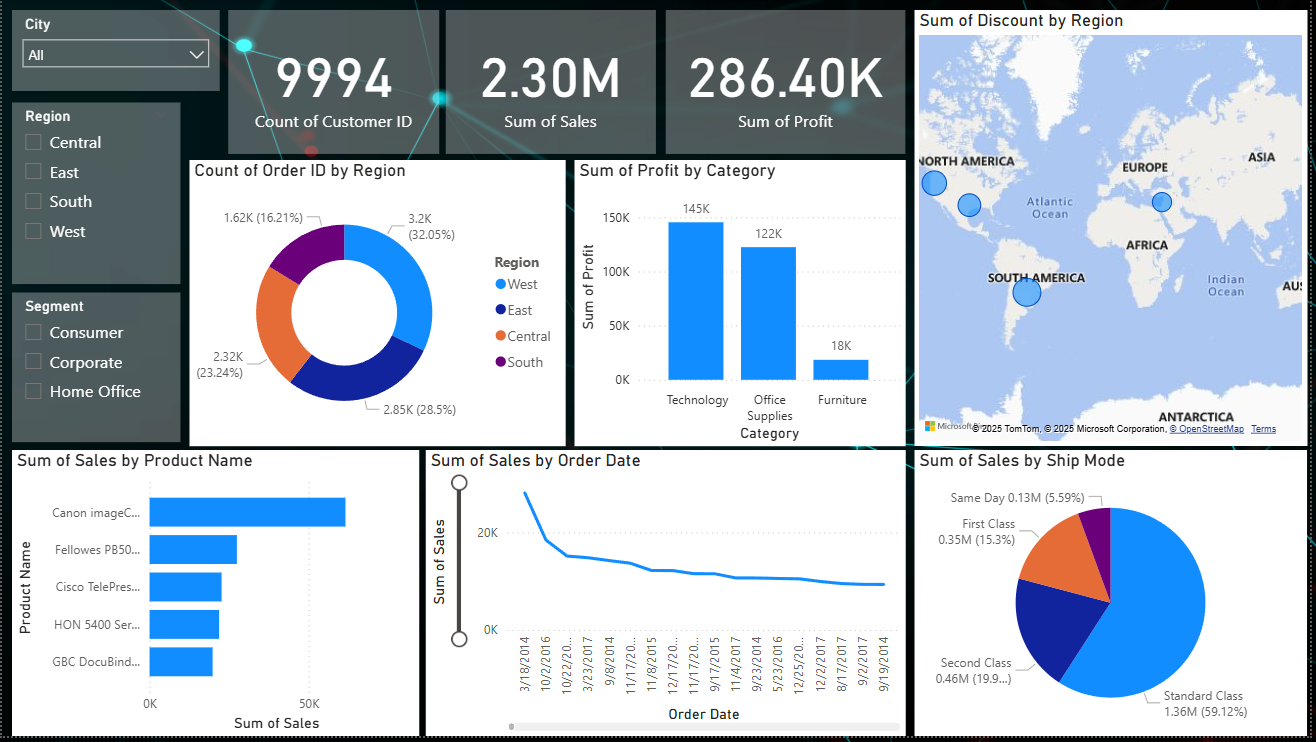

Layout of this report page (visuals, bound fields, positions):
{"tool":"powerbi","page":{"name":"Page 1","canvas":[1280,720],"ordinal":0},"visuals":[{"type":"lineChart","fields":{"Y":["Sum(Sample - Superstore.Sales)"],"Category":["Sample - Superstore.Order Date"]},"box":[415,440.2,469,280],"z":0},{"type":"pieChart","fields":{"Category":["Sample - Superstore.Ship Mode"],"Y":["Sum(Sample - Superstore.Sales)"]},"box":[892.7,440.2,384,280],"z":1000},{"type":"columnChart","fields":{"Category":["Sample - Superstore.Category"],"Y":["Sum(Sample - Superstore.Profit)"]},"box":[560.1,156.5,324.1,280],"z":2000},{"type":"donutChart","fields":{"Category":["Sample - Superstore.Region"],"Y":["CountNonNull(Sample - Superstore.Order ID)"]},"box":[183.4,156.5,368.1,280],"z":3000},{"type":"barChart","fields":{"Category":["Sample - Superstore.Product Name"],"Y":["Sum(Sample - Superstore.Sales)"]},"box":[9.8,440.2,398.6,280],"z":4000},{"type":"map","fields":{"Category":["Sample - Superstore.Region"],"Size":["Sum(Sample - Superstore.Discount)"]},"box":[892.7,9.8,384,426.8],"z":5000},{"type":"slicer","fields":{"Values":["Sample - Superstore.Region"]},"box":[9.8,100.3,165.1,177.3],"z":5001},{"type":"slicer","fields":{"Values":["Sample - Superstore.City"]},"box":[9.8,9.8,203,79.5],"z":5002},{"type":"card","title":"Number of Customers","fields":{"Values":["CountNonNull(Sample - Superstore.Customer ID)"]},"box":[221.3,9.8,206.7,140.6],"z":5003},{"type":"card","fields":{"Values":["Sum(Sample - Superstore.Profit)"]},"box":[649.3,9.8,234.8,140.6],"z":5004},{"type":"card","fields":{"Values":["Sum(Sample - Superstore.Sales)"]},"box":[434.1,9.8,205.4,140.6],"z":5005},{"type":"slicer","fields":{"Values":["Sample - Superstore.Segment"]},"box":[9.8,286.1,165.1,146.7],"z":5006}]}

Visuals, with their boxes in screenshot pixels (x1, y1, x2, y2), scaled from the page's 1280x720 canvas onto the 1316x742 screenshot:
lineChart - Sum(Sample - Superstore.Sales) x Sample - Superstore.Order Date: 427, 454, 909, 741
pieChart - Sample - Superstore.Ship Mode x Sum(Sample - Superstore.Sales): 918, 454, 1313, 741
columnChart - Sample - Superstore.Category x Sum(Sample - Superstore.Profit): 576, 161, 909, 450
donutChart - Sample - Superstore.Region x CountNonNull(Sample - Superstore.Order ID): 189, 161, 567, 450
barChart - Sample - Superstore.Product Name x Sum(Sample - Superstore.Sales): 10, 454, 420, 741
map - Sample - Superstore.Region x Sum(Sample - Superstore.Discount): 918, 10, 1313, 450
slicer - Sample - Superstore.Region: 10, 103, 180, 286
slicer - Sample - Superstore.City: 10, 10, 219, 92
"Number of Customers" card: 228, 10, 440, 155
card - Sum(Sample - Superstore.Profit): 668, 10, 909, 155
card - Sum(Sample - Superstore.Sales): 446, 10, 657, 155
slicer - Sample - Superstore.Segment: 10, 295, 180, 446
